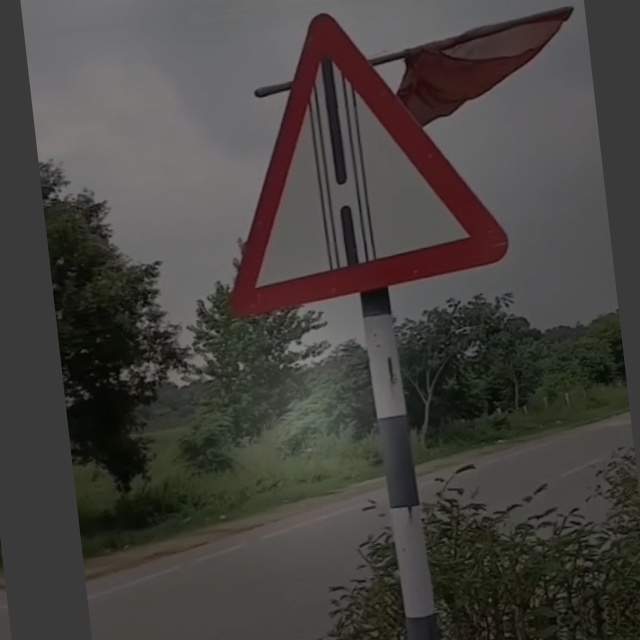Gap_in_Median: (204, 6, 510, 307)
